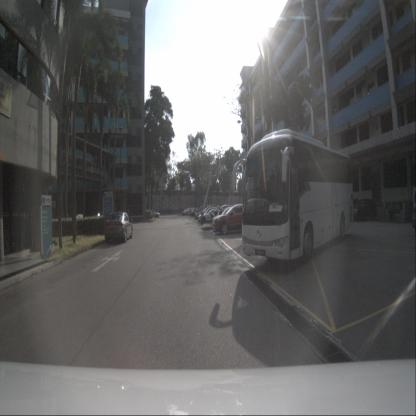vehicle-bus-rigid: (242, 128, 354, 262)
vehicle-car: (214, 204, 244, 235), (104, 212, 133, 243), (212, 206, 242, 232), (350, 197, 377, 221), (198, 207, 222, 222), (198, 209, 223, 223), (146, 208, 160, 218), (184, 207, 196, 216), (181, 208, 191, 216)
